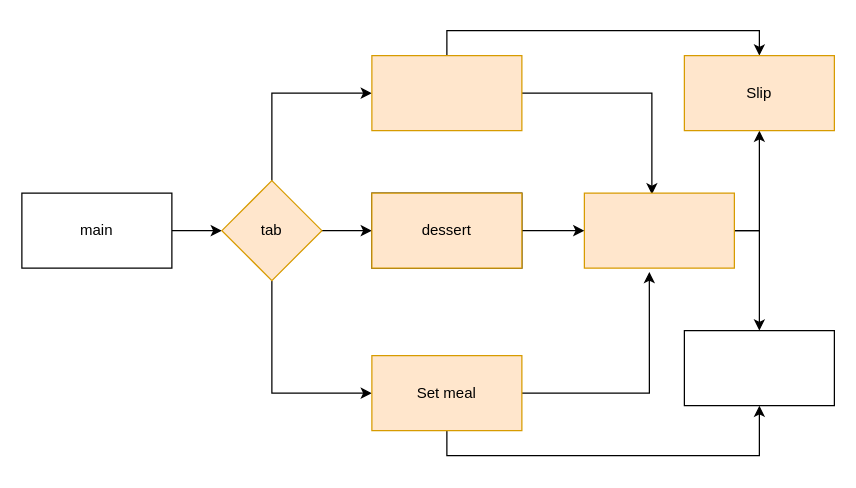
Image size: 856x488. Some labels were removed from this diagram. Each missing label, with the box of its shape:
Drink: (371, 54, 522, 131)
kitchen: (683, 329, 834, 406)
subtotal: (583, 192, 734, 268)
